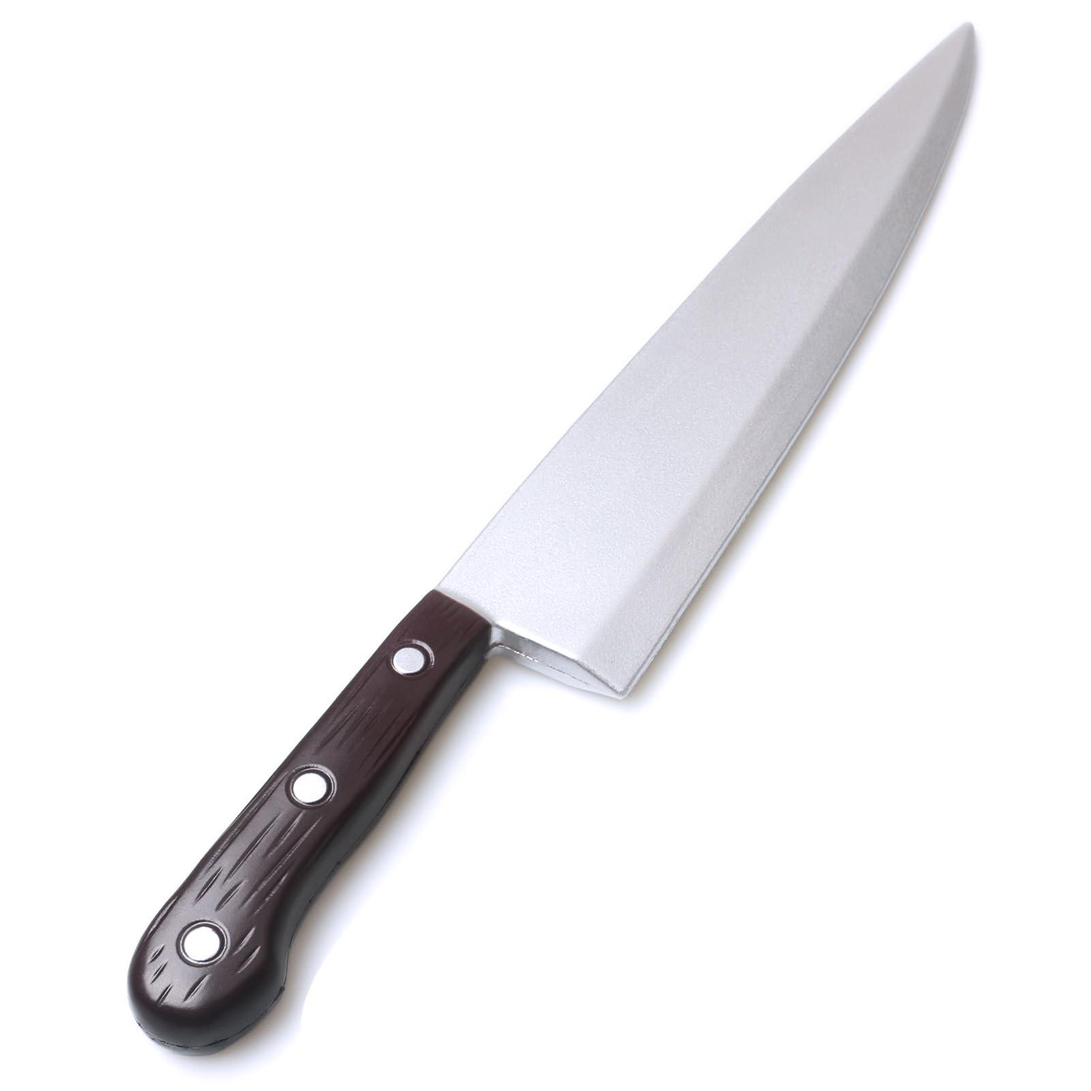Knife: (114, 17, 989, 1059)
